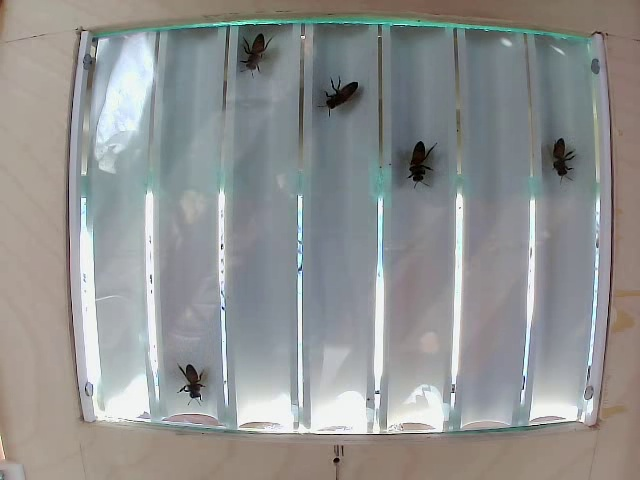bee: (318, 76, 373, 117), (410, 138, 451, 185), (545, 126, 575, 173), (244, 38, 273, 81), (176, 347, 205, 390)
